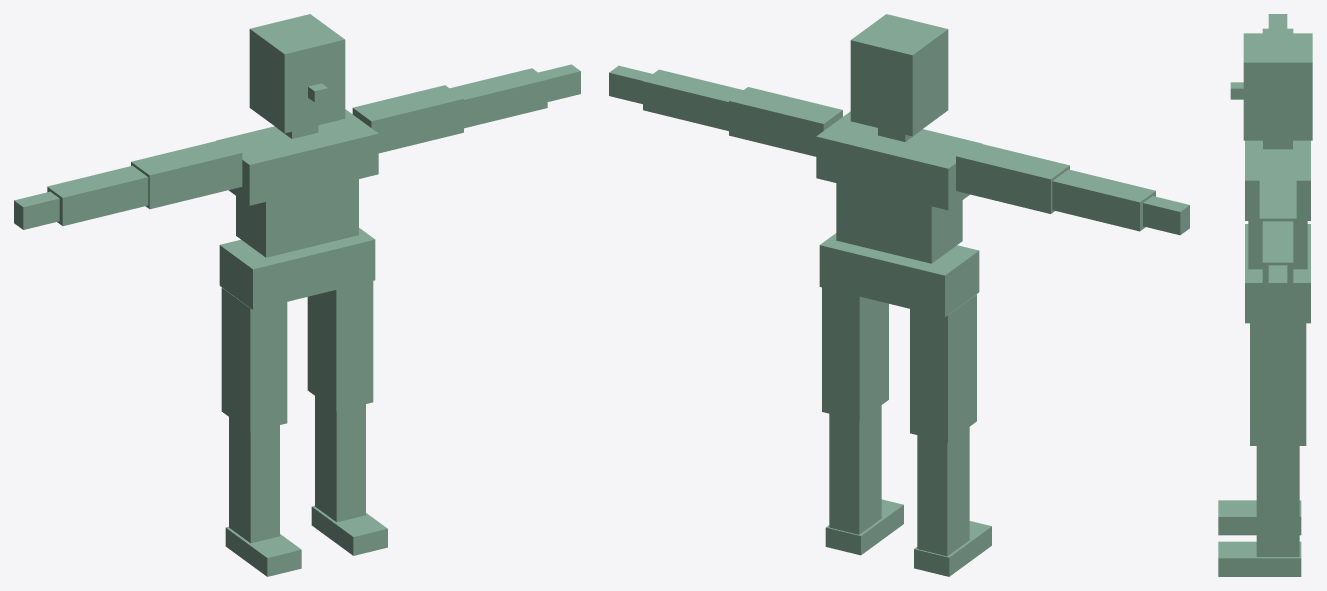
File: tall_humanoid.glb
3 views of the same model, side by side, from view 1: azimuth 30°, elevation 25°; view 2: azimuth 150°, elevation 25°; view 3: azimuth 270°, elevation 25° (orthographic). The views are drawn at different scales.
Visible parts, largest first — view 1: body_Head, body_Chest, body_UpperLeg_R, body_Hips, body_UpperLeg_L, body_Spine, body_LowerLeg_L, body_LowerLeg_R, body_UpperArm_R, body_UpperArm_L, body_LowerArm_R, body_LowerArm_L (+4 smaller); view 2: body_Head, body_Chest, body_Hips, body_UpperLeg_R, body_UpperLeg_L, body_Spine, body_LowerLeg_R, body_LowerLeg_L, body_UpperArm_R, body_UpperArm_L, body_LowerArm_R, body_LowerArm_L (+4 smaller); view 3: body_Head, body_UpperLeg_L, body_LowerLeg_L, body_Chest, body_Hips, body_Foot_L, body_UpperArm_L, body_LowerArm_L, body_Foot_R, body_Spine, body_Hand_L, body_Neck (+3 smaller).
Boxes of the visible parts, x1,y1,x2,y2 form: body_Head: (249, 14, 345, 133); body_Chest: (216, 109, 378, 205); body_UpperLeg_R: (221, 287, 287, 432); body_Hips: (219, 228, 375, 309); body_UpperLeg_L: (307, 281, 373, 411); body_Spine: (236, 179, 358, 257); body_LowerLeg_L: (315, 396, 365, 522); body_LowerLeg_R: (229, 417, 279, 543); body_UpperArm_R: (131, 139, 242, 209); body_UpperArm_L: (352, 85, 463, 153); body_LowerArm_R: (47, 165, 148, 225); body_LowerArm_L: (450, 68, 547, 128); body_Head: (850, 14, 948, 136); body_Chest: (816, 111, 982, 210); body_Hips: (819, 233, 979, 317); body_UpperLeg_R: (910, 294, 976, 442); body_UpperLeg_L: (822, 287, 888, 420); body_Spine: (836, 183, 962, 263); body_LowerLeg_R: (917, 427, 969, 556); body_LowerLeg_L: (829, 405, 881, 534); body_UpperArm_R: (956, 142, 1069, 213); body_UpperArm_L: (729, 87, 842, 156); body_LowerArm_R: (1052, 169, 1155, 231); body_LowerArm_L: (643, 69, 743, 130); body_Head: (1243, 33, 1312, 140); body_UpperLeg_L: (1250, 323, 1306, 445); body_LowerLeg_L: (1256, 446, 1299, 556); body_Chest: (1245, 140, 1310, 220); body_Hips: (1245, 224, 1310, 323); body_Foot_L: (1218, 541, 1301, 576); body_UpperArm_L: (1259, 174, 1296, 251); body_LowerArm_L: (1262, 221, 1293, 290); body_Foot_R: (1218, 500, 1301, 535); body_Spine: (1248, 221, 1307, 269); body_Hand_L: (1268, 265, 1287, 305); body_Neck: (1263, 140, 1292, 149).
Size of the model in its own units: 2.54 by 2.2 by 0.3753.
